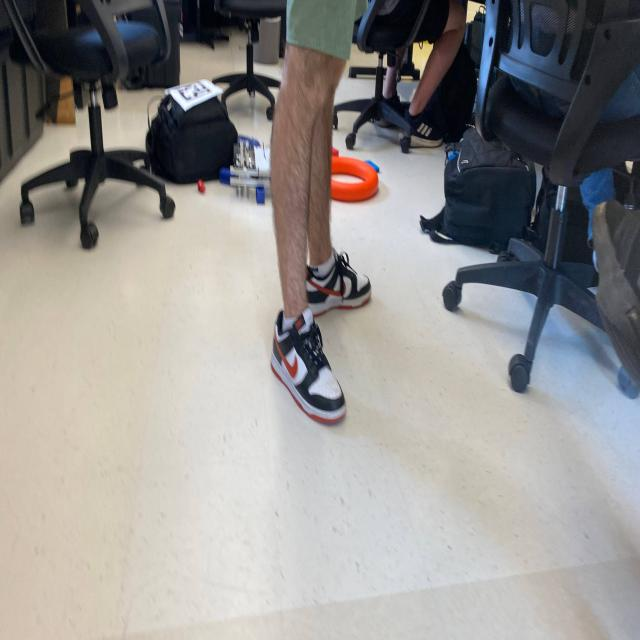blue-specimen: (219, 168, 231, 185), (256, 186, 265, 204)
red-specimen: (332, 147, 339, 157)
